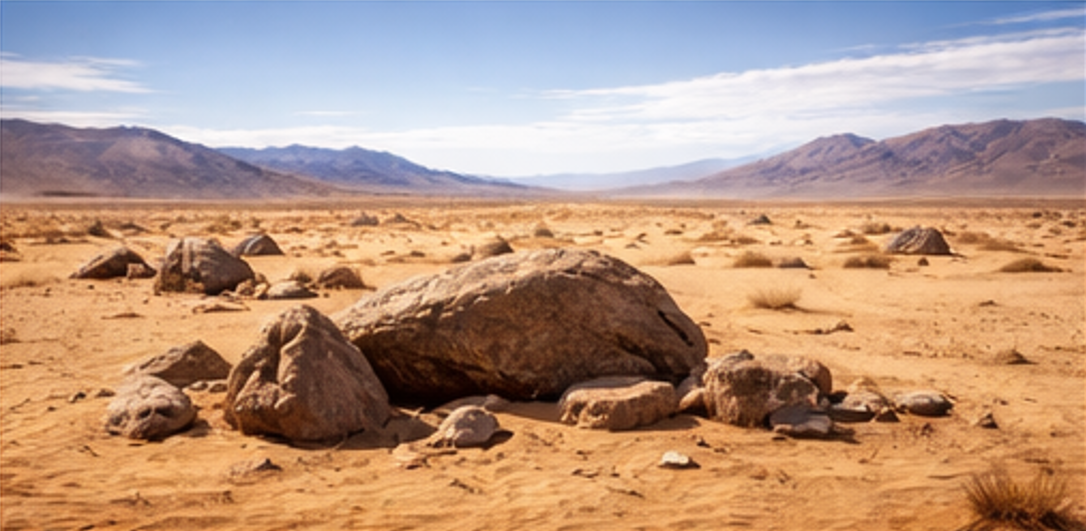rocks: (333, 249, 705, 403), (223, 305, 390, 438), (704, 352, 828, 426), (559, 376, 676, 429), (106, 374, 195, 438), (153, 237, 253, 293), (125, 339, 231, 386), (426, 404, 498, 447), (71, 246, 153, 277), (887, 225, 950, 253), (892, 389, 951, 416), (231, 234, 283, 256), (315, 265, 365, 287)
